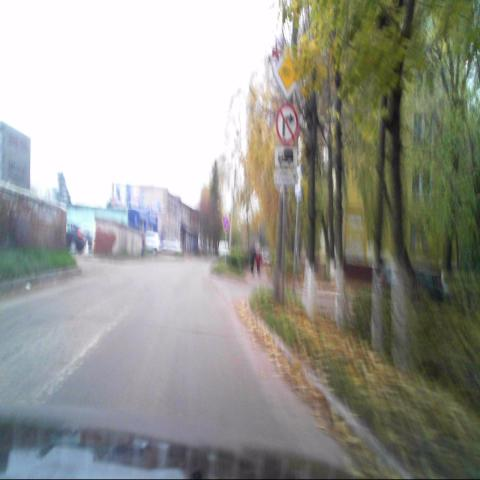3_18: (275, 104, 298, 143)
